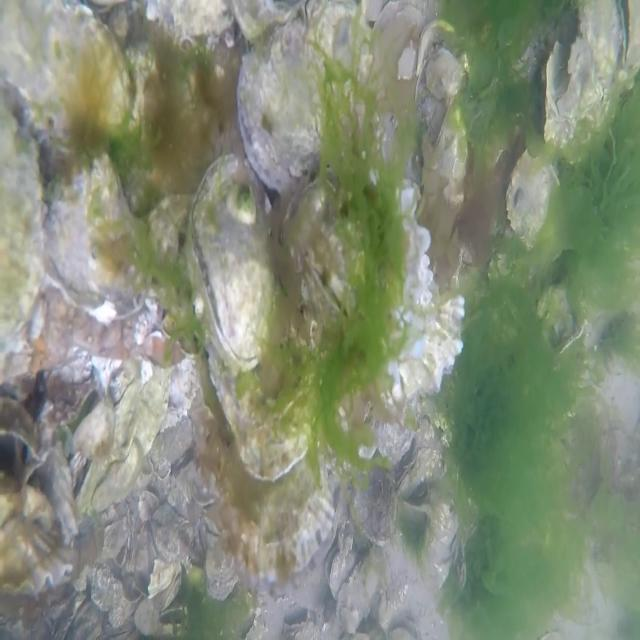Oyster-Closed: (236, 0, 372, 198), (189, 152, 278, 372), (45, 151, 151, 323), (0, 0, 137, 124), (0, 106, 39, 345), (505, 150, 558, 252), (0, 524, 71, 596), (431, 101, 469, 210), (396, 452, 430, 498), (328, 482, 345, 541)
Oyster-Indeterminate: (282, 180, 464, 405), (204, 277, 326, 482), (214, 388, 333, 579), (80, 370, 172, 509), (543, 0, 621, 149), (414, 18, 467, 110), (352, 447, 398, 542), (337, 547, 386, 630), (0, 472, 54, 535), (371, 397, 418, 461), (207, 516, 240, 604)
Oyster-Open: (0, 395, 44, 495), (616, 0, 640, 84), (326, 545, 357, 597), (399, 487, 433, 518)
